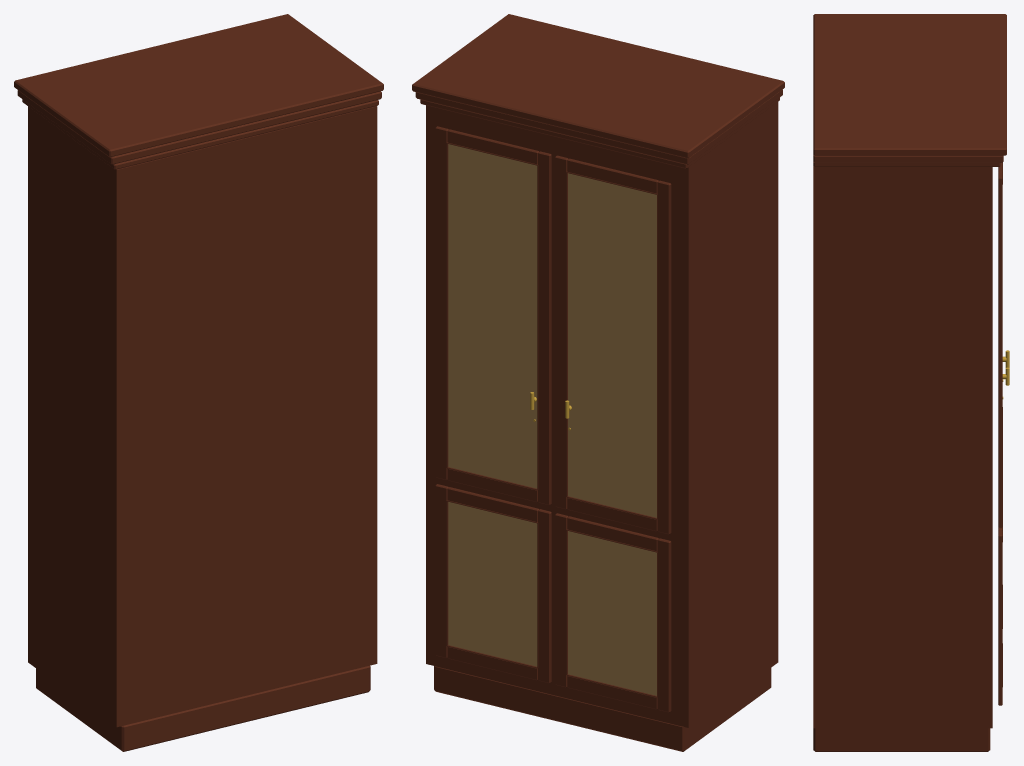
The model's file is parametric-wardrobe-2nd.glb.
3 views of the same model, side by side, from view 1: azimuth 30°, elevation 25°; view 2: azimuth 150°, elevation 25°; view 3: azimuth 270°, elevation 25° (orthographic).
Parts seen in each view (by area): view 1: parametric-wardrobe-2nd; view 2: parametric-wardrobe-2nd; view 3: parametric-wardrobe-2nd.
Boxes of the visible parts, <box> form: parametric-wardrobe-2nd: <box>14,14,383,751</box>; parametric-wardrobe-2nd: <box>412,14,784,751</box>; parametric-wardrobe-2nd: <box>813,14,1009,751</box>.
Bounding box in the file's own units: 0.95 × 2 × 0.5827.
